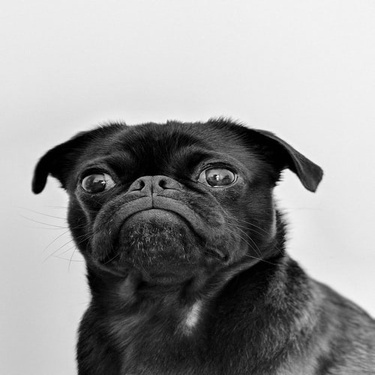dog: (32, 119, 373, 374)
